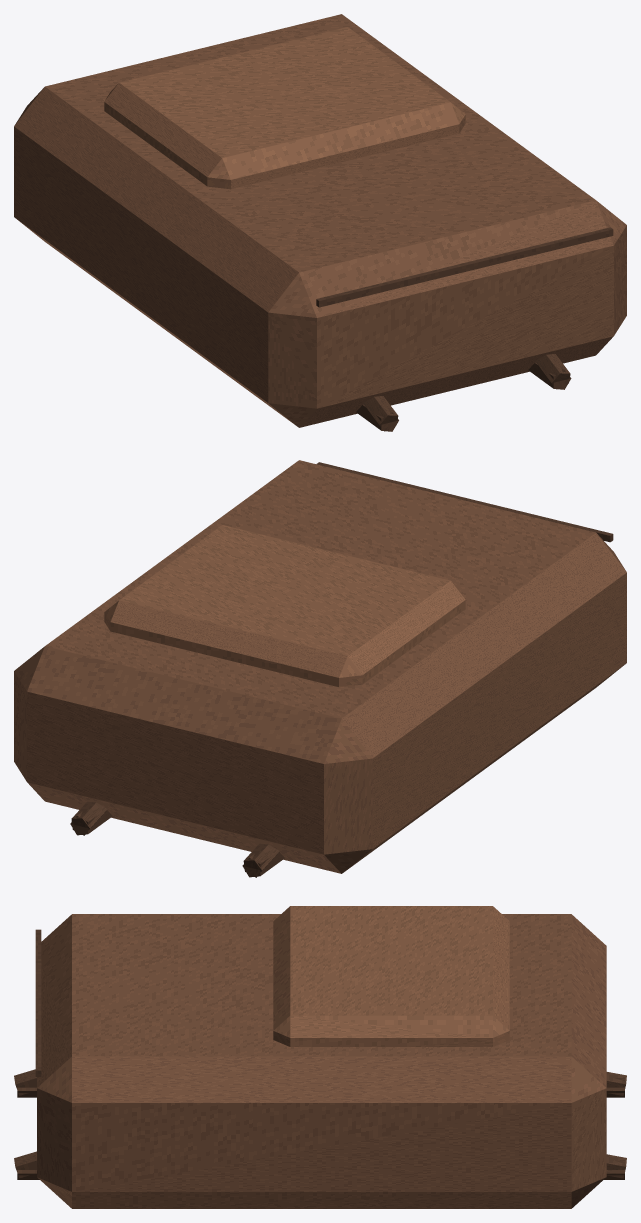
File: backpack_leather.glb
3 renders of one model, top to bottom at view 1: azimuth 30°, elevation 25°; view 2: azimuth 150°, elevation 25°; view 3: azimuth 270°, elevation 25°, orthographic.
Parts seen in each view (by area): view 1: block_bag body, block_front pocket, block_zipper or closure, block_shoulder harness -0.0696 2, block_shoulder harness 0.0696 2; view 2: block_bag body, block_front pocket, block_zipper or closure, block_shoulder harness 0.0696 0, block_shoulder harness -0.0696 0; view 3: block_bag body, block_front pocket, block_zipper or closure, block_shoulder harness -0.0696 1.
Boxes of the visible parts, x1,y1,x2,y2 form: block_bag body: [14, 14, 626, 427]; block_front pocket: [104, 27, 465, 189]; block_zipper or closure: [316, 227, 613, 307]; block_shoulder harness -0.0696 2: [363, 396, 398, 431]; block_shoulder harness 0.0696 2: [535, 354, 570, 389]; block_bag body: [14, 460, 626, 873]; block_front pocket: [104, 525, 465, 687]; block_zipper or closure: [316, 462, 613, 542]; block_shoulder harness 0.0696 0: [71, 801, 107, 835]; block_shoulder harness -0.0696 0: [243, 843, 279, 877]; block_bag body: [37, 914, 606, 1208]; block_front pocket: [273, 906, 509, 1046]; block_zipper or closure: [35, 929, 41, 1076]; block_shoulder harness -0.0696 1: [17, 1077, 624, 1097].
Bounding box in the file's own units: 0.29 × 0.1392 × 0.4369.
1 material, 1 textured.
